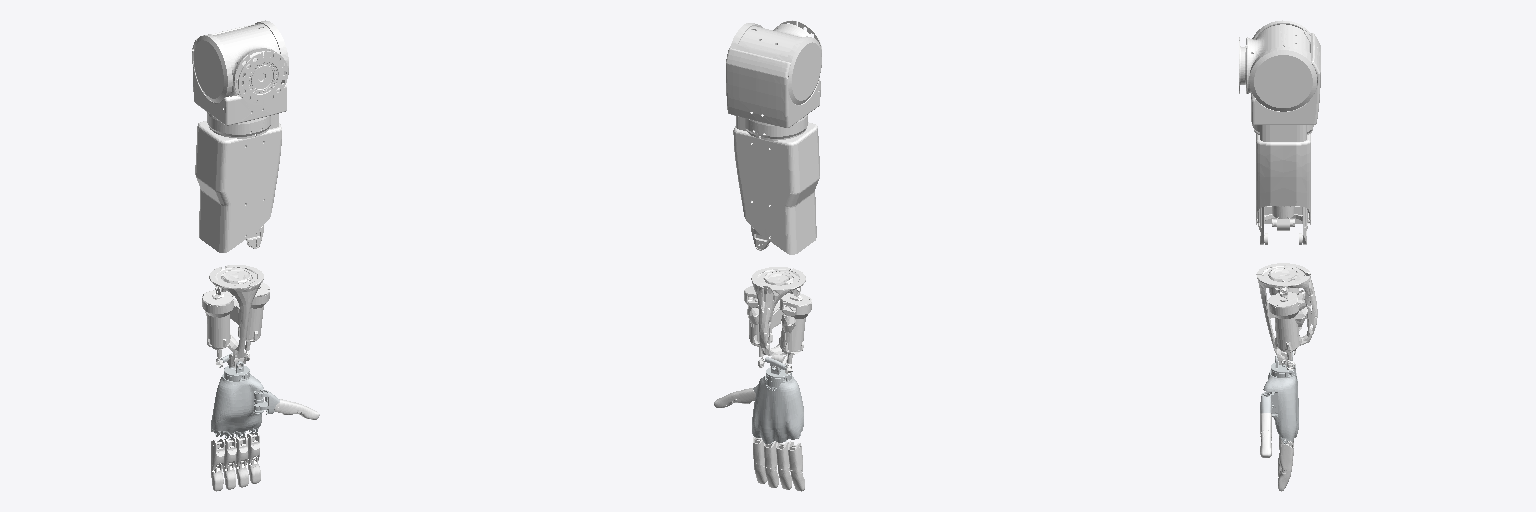
URDF robot description (left_arm):
<?xml version="1.0" encoding="utf-8"?>
<robot name="left_arm">
  
  <link name="base_link"/>

  <link
    name="left_shoulder_pitch">
    <inertial>
      <origin
        xyz="-0.000967 0.002123 -0.065723"
        rpy="0 0 0" />
      <mass
        value="1.629" />
      <inertia
        ixx="0.002400607"
        ixy="4.53300000E-06"
        ixz="1.86160000E-05"
        iyy="0.002402184"
        iyz="-5.55000000E-07"
        izz="0.001715245" />
    </inertial>
    <visual>
      <origin
        xyz="0 0 0"
        rpy="0 0 0" />
      <geometry>
        <mesh
          filename="./meshes/left_shoulder_pitch.STL" />
      </geometry>
      <material
        name="">
        <color
          rgba="1 1 1 1" />
      </material>
    </visual>
    <collision>
      <origin
        xyz="0 0 0"
        rpy="0 0 0" />
      <geometry>
        <mesh
          filename="./meshes/left_shoulder_pitch.STL" />
      </geometry>
    </collision>
  </link>
  
  <joint
    name="left_shoulder_pitch"
    type="revolute">
    <origin
      xyz="-0.0199999999999999 0.13949999999999 0.404"
      rpy="1.5707963267949 0 0" />
    <parent
      link="base_link" />
    <child
      link="left_shoulder_pitch" />
    <axis
      xyz="0 0 1" />
    <limit
      lower="-1.58"
      upper="3.16"
      effort="130"
      velocity="2.62" />
  </joint>

  <link
    name="left_shoulder_roll">
    <inertial>
      <origin
        xyz="0.026227 0.00152 -0.001953"
        rpy="0 0 0" />
      <mass
        value="1.587" />
      <inertia
        ixx="0.002776846"
        ixy="-1.03429000E-04"
        ixz="8.41720000E-05"
        iyy="0.004808973"
        iyz="9.46000000E-07"
        izz="0.004198699" />
    </inertial>
    <visual>
      <origin
        xyz="0 0 0"
        rpy="0 0 0" />
      <geometry>
        <mesh
          filename="./meshes/left_shoulder_roll.STL" />
      </geometry>
      <material
        name="">
        <color
          rgba="1 1 1 1" />
      </material>
    </visual>
    <collision>
      <origin
        xyz="0 0 0"
        rpy="0 0 0" />
      <geometry>
        <mesh
          filename="./meshes/left_shoulder_roll.STL" />
      </geometry>
    </collision>
  </link>
  <joint
    name="left_shoulder_roll"
    type="revolute">
    <origin
      xyz="0 0 -0.077"
      rpy="-1.5707963267949 0 -1.5707963267949" />
    <parent
      link="left_shoulder_pitch" />
    <child
      link="left_shoulder_roll" />
    <axis
      xyz="0 0 1" />
    <limit
      lower="0"
      upper="1.58"
      effort="130"
      velocity="2.62" />
  </joint>
  <link
    name="left_shoulder_yaw">
    <inertial>
      <origin
        xyz="0.000001 0.006031 -0.087644"
        rpy="0 0 0" />
      <mass
        value="1.25" />
      <inertia
        ixx="0.004255287"
        ixy="-9.80000000E-08"
        ixz="-1.25000000E-07"
        iyy="0.004278856"
        iyz="-2.28902000E-04"
        izz="0.001603734" />
    </inertial>
    <visual>
      <origin
        xyz="0 0 0"
        rpy="0 0 0" />
      <geometry>
        <mesh
          filename="./meshes/left_shoulder_yaw.STL" />
      </geometry>
      <material
        name="">
        <color
          rgba="1 1 1 1" />
      </material>
    </visual>
    <collision>
      <origin
        xyz="0 0 0"
        rpy="0 0 0" />
      <geometry>
        <mesh
          filename="./meshes/left_shoulder_yaw.STL" />
      </geometry>
    </collision>
  </link>
  <joint
    name="left_shoulder_yaw"
    type="revolute">
    <origin
      xyz="0.118500000000157 0 0"
      rpy="-1.5707963267949 0 1.5707963267949" />
    <parent
      link="left_shoulder_roll" />
    <child
      link="left_shoulder_yaw" />
    <axis
      xyz="0 0 1" />
    <limit
      lower="-1.58"
      upper="1.58"
      effort="163"
      velocity="2.1" />
  </joint>
  <link
    name="left_elbow_pitch">
    <inertial>
      <origin
        xyz="0.01558 0.036436 -0.000005"
        rpy="0 0 0" />
      <mass
        value="1.064" />
      <inertia
        ixx="0.00124594"
        ixy="3.27260000E-05"
        ixz="-1.20000000E-07"
        iyy="8.74858000E-04"
        iyz="1.90000000E-08"
        izz="0.001140589" />
    </inertial>
    <visual>
      <origin
        xyz="0 0 0"
        rpy="0 0 0" />
      <geometry>
        <mesh
          filename="./meshes/left_elbow_pitch.STL" />
      </geometry>
      <material
        name="">
        <color
          rgba="1 1 1 1" />
      </material>
    </visual>
    <collision>
      <origin
        xyz="0 0 0"
        rpy="0 0 0" />
      <geometry>
        <mesh
          filename="./meshes/left_elbow_pitch.STL" />
      </geometry>
    </collision>
  </link>
  <joint
    name="left_elbow_pitch"
    type="revolute">
    <origin
      xyz="0 -0.00700000000000012 -0.210500002920037"
      rpy="-1.5707963267949 0 1.5707963267949" />
    <parent
      link="left_shoulder_yaw" />
    <child
      link="left_elbow_pitch" />
    <axis
      xyz="0 0 1" />
    <limit
      lower="0"
      upper="2.27"
      effort="60"
      velocity="6.67" />
  </joint>
  <link
    name="left_elbow_yaw">
    <inertial>
      <origin
        xyz="-0.00052 0.005407 -0.062913"
        rpy="0 0 0" />
      <mass
        value="0.969" />
      <inertia
        ixx="0.001612781"
        ixy="3.54500000E-06"
        ixz="1.06500000E-05"
        iyy="0.002250204"
        iyz="-9.20040000E-05"
        izz="0.001315879" />
    </inertial>
    <visual>
      <origin
        xyz="0 0 0"
        rpy="0 0 0" />
      <geometry>
        <mesh
          filename="./meshes/left_elbow_yaw.STL" />
      </geometry>
      <material
        name="">
        <color
          rgba="1 1 1 1" />
      </material>
    </visual>
    <collision>
      <origin
        xyz="0 0 0"
        rpy="0 0 0" />
      <geometry>
        <mesh
          filename="./meshes/left_elbow_yaw.STL" />
      </geometry>
    </collision>
  </link>
  <joint
    name="left_elbow_yaw"
    type="revolute">
    <origin
      xyz="0.0150000000000032 0.0779000084169724 0"
      rpy="-1.57079641267836 0 3.14159265358979" />
    <parent
      link="left_elbow_pitch" />
    <child
      link="left_elbow_yaw" />
    <axis
      xyz="0 0 1" />
    <limit
      lower="-2.1"
      upper="2.1"
      effort="31"
      velocity="2.62" />
  </joint>
  <link
    name="left_wrist_pitch">
    <inertial>
      <origin
        xyz="0.000 -0.004355 0.000"
        rpy="0 0 0" />
      <mass
        value="0.023" />
      <inertia
        ixx="1.819E-06"
        ixy="0.000"
        ixz="0.000"
        iyy="1.224E-06"
        iyz="0.000"
        izz="1.598E-06" />
    </inertial>
    <visual>
      <origin
        xyz="0 0 0"
        rpy="0 0 0" />
      <geometry>
        <mesh
          filename="./meshes/left_wrist_pitch.STL" />
      </geometry>
      <material
        name="">
        <color
          rgba="1 1 1 1" />
      </material>
    </visual>
    <collision>
      <origin
        xyz="0 0 0"
        rpy="0 0 0" />
      <geometry>
        <mesh
          filename="./meshes/left_wrist_pitch.STL" />
      </geometry>
    </collision>
  </link>
  <joint
    name="left_wrist_pitch"
    type="revolute">
    <origin
      xyz="0 0 -0.158"
      rpy="1.5707963267949 0 1.5707963267949" />
    <parent
      link="left_elbow_yaw" />
    <child
      link="left_wrist_pitch" />
    <axis
      xyz="0 0 1" />
    <limit
      lower="-0.7"
      upper="0.35"
      effort="15"
      velocity="3.96" />
  </joint>
  <link
    name="left_wrist_yaw">
    <inertial>
      <origin
        xyz="-0.070305 -0.002637 0.003387"
        rpy="0 0 0" />
      <mass
        value="0.883" />
      <inertia
        ixx="5.75564E-04"
        ixy="3.2923E-05"
        ixz="6.5112E-05"
        iyy="0.001385921"
        iyz="-8.702E-06"
        izz="0.001654264" />
    </inertial>
    <visual>
      <origin
        xyz="0 0 0"
        rpy="0 0 0" />
      <geometry>
        <mesh
          filename="./meshes/left_wrist_yaw.STL" />
      </geometry>
      <material
        name="">
        <color
          rgba="0.89804 0.91765 0.92941 1" />
      </material>
    </visual>
    <collision>
      <origin
        xyz="0 0 0"
        rpy="0 0 0" />
      <geometry>
        <mesh
          filename="./meshes/left_wrist_yaw.STL" />
      </geometry>
    </collision>
  </link>
  <joint
    name="left_wrist_yaw"
    type="revolute">
    <origin
      xyz="0 -0.01 0"
      rpy="-1.5707963267949 0 1.5707963267949" />
    <parent
      link="left_wrist_pitch" />
    <child
      link="left_wrist_yaw" />
    <axis
      xyz="0 0 1" />
    <limit
      lower="-1.31"
      upper="0.96"
      effort="15"
      velocity="10.21" />
  </joint>
  <link
    name="left_thumb_1_roll">
    <inertial>
      <origin
        xyz="-0.000537 0.011649 0.007843"
        rpy="0 0 0" />
      <mass
        value="0.025" />
      <inertia
        ixx="4.776E-06"
        ixy="-5.100E-08"
        ixz="2.900E-08"
        iyy="3.749E-06"
        iyz="4.72E-07"
        izz="2.802E-06" />
    </inertial>
    <visual>
      <origin
        xyz="0 0 0"
        rpy="0 0 0" />
      <geometry>
        <mesh
          filename="./meshes/left_thumb_1_roll.STL" />
      </geometry>
      <material
        name="">
        <color
          rgba="0.89804 0.91765 0.92941 1" />
      </material>
    </visual>
    <collision>
      <origin
        xyz="0 0 0"
        rpy="0 0 0" />
      <geometry>
        <mesh
          filename="./meshes/left_thumb_1_roll.STL" />
      </geometry>
    </collision>
  </link>
  <joint
    name="left_thumb_1_roll"
    type="revolute">
    <origin
      xyz="-0.065711011608865 -0.0355434265047999 0.0304721667720281"
      rpy="3.14159265358979 1.5707963267949 0" />
    <parent
      link="left_wrist_yaw" />
    <child
      link="left_thumb_1_roll" />
    <axis
      xyz="0 0 1" />
    <limit
      lower="0"
      upper="1.75"
      effort="0.5"
      velocity="1.5" />
  </joint>
  <link
    name="left_thumb_2_pitch">
    <inertial>
      <origin
        xyz="-0.01953 -0.006657 0"
        rpy="0 0 0" />
      <mass
        value="0.031" />
      <inertia
        ixx="3.07100000E-06"
        ixy="1.51700000E-06"
        ixz="0.000"
        iyy="6.09800000E-06"
        iyz="0.000"
        izz="6.60000000E-06" />
    </inertial>
    <visual>
      <origin
        xyz="0 0 0"
        rpy="0 0 0" />
      <geometry>
        <mesh
          filename="./meshes/left_thumb_2_pitch.STL" />
      </geometry>
      <material
        name="">
        <color
          rgba="1 1 1 1" />
      </material>
    </visual>
    <collision>
      <origin
        xyz="0 0 0"
        rpy="0 0 0" />
      <geometry>
        <mesh
          filename="./meshes/left_thumb_2_pitch.STL" />
      </geometry>
    </collision>
  </link>
  <joint
    name="left_thumb_2_pitch"
    type="revolute">
    <origin
      xyz="0 0.0240000000043515 0.0191499999674365"
      rpy="-1.5707963267949 0 -1.5707963267949" />
    <parent
      link="left_thumb_1_roll" />
    <child
      link="left_thumb_2_pitch" />
    <axis
      xyz="0 0 1" />
    <limit
      lower="0"
      upper="1.58"
      effort="0.5"
      velocity="1.5" />
  </joint>
  <link
    name="left_thumb_3_pitch">
    <inertial>
      <origin
        xyz="-0.022652 -0.010625 0.000"
        rpy="0 0 0" />
      <mass
        value="0.0226" />
      <inertia
        ixx="2.02300000E-06"
        ixy="1.58500000E-06"
        ixz="0.000"
        iyy="3.68200000E-06"
        iyz="0.000"
        izz="4.55500000E-06" />
    </inertial>
    <visual>
      <origin
        xyz="0 0 0"
        rpy="0 0 0" />
      <geometry>
        <mesh
          filename="./meshes/left_thumb_3_pitch.STL" />
      </geometry>
      <material
        name="">
        <color
          rgba="1 1 1 1" />
      </material>
    </visual>
    <collision>
      <origin
        xyz="0 0 0"
        rpy="0 0 0" />
      <geometry>
        <mesh
          filename="./meshes/left_thumb_3_pitch.STL" />
      </geometry>
    </collision>
  </link>
  <joint
    name="left_thumb_3_pitch"
    type="revolute">
    <origin
      xyz="-0.0394670900730081 -0.0143648460196782 0"
      rpy="0 0 0" />
    <parent
      link="left_thumb_2_pitch" />
    <child
      link="left_thumb_3_pitch" />
    <axis
      xyz="0 0 1" />
    <limit
      lower="0"
      upper="1.58"
      effort="0.5"
      velocity="1.5" />
  </joint>
  <link
    name="left_index_finger_2_pitch">
    <inertial>
      <origin
        xyz="0.000424 -0.020629 0"
        rpy="0 0 0" />
      <mass
        value="0.0308" />
      <inertia
        ixx="6.719E-06"
        ixy="1.89E-07"
        ixz="0.000"
        iyy="2.45E-06"
        iyz="0.000"
        izz="6.6E-06" />
    </inertial>
    <visual>
      <origin
        xyz="0 0 0"
        rpy="0 0 0" />
      <geometry>
        <mesh
          filename="./meshes/left_index_finger_2_pitch.STL" />
      </geometry>
      <material
        name="">
        <color
          rgba="1 1 1 1" />
      </material>
    </visual>
    <collision>
      <origin
        xyz="0 0 0"
        rpy="0 0 0" />
      <geometry>
        <mesh
          filename="./meshes/left_index_finger_2_pitch.STL" />
      </geometry>
    </collision>
  </link>
  <joint
    name="left_index_finger_2_pitch"
    type="revolute">
    <origin
      xyz="-0.149999999987412 -0.0355434264207067 -0.00354780308283045"
      rpy="-3.13755534197538 1.57079580738735 1.57483363840931" />
    <parent
      link="left_wrist_yaw" />
    <child
      link="left_index_finger_2_pitch" />
    <axis
      xyz="0 0 -1" />
    <limit
      lower="0"
      upper="1.58"
      effort="0.5"
      velocity="1.5" />
  </joint>
  <link
    name="left_index_finger_3_pitch">
    <inertial>
      <origin
        xyz="-0.002405 -0.021599 0"
        rpy="0 0 0" />
      <mass
        value="0.0189" />
      <inertia
        ixx="2.967E-06"
        ixy="6.44E-07"
        ixz="0.000"
        iyy="1.024E-06"
        iyz="0.000"
        izz="3.127E-06" />
    </inertial>
    <visual>
      <origin
        xyz="0 0 0"
        rpy="0 0 0" />
      <geometry>
        <mesh
          filename="./meshes/left_index_finger_3_pitch.STL" />
      </geometry>
      <material
        name="">
        <color
          rgba="1 1 1 1" />
      </material>
    </visual>
    <collision>
      <origin
        xyz="0 0 0"
        rpy="0 0 0" />
      <geometry>
        <mesh
          filename="./meshes/left_index_finger_3_pitch.STL" />
      </geometry>
    </collision>
  </link>
  <joint
    name="left_index_finger_3_pitch"
    type="revolute">
    <origin
      xyz="0 -0.0419999999936377 0"
      rpy="0 0 0" />
    <parent
      link="left_index_finger_2_pitch" />
    <child
      link="left_index_finger_3_pitch" />
    <axis
      xyz="0 0 -1" />
    <limit
      lower="0"
      upper="1.58"
      effort="0.5"
      velocity="1.5" />
  </joint>
  <link
    name="left_middle_finger_2_pitch">
    <inertial>
      <origin
        xyz="0.000424 -0.020629 0"
        rpy="0 0 0" />
      <mass
        value="0.0308" />
      <inertia
        ixx="6.71900000E-06"
        ixy="1.89000000E-07"
        ixz="0.000"
        iyy="2.45000000E-06"
        iyz="0.000"
        izz="6.60000000E-06" />
    </inertial>
    <visual>
      <origin
        xyz="0 0 0"
        rpy="0 0 0" />
      <geometry>
        <mesh
          filename="./meshes/left_middle_finger_2_pitch.STL" />
      </geometry>
      <material
        name="">
        <color
          rgba="1 1 1 1" />
      </material>
    </visual>
    <collision>
      <origin
        xyz="0 0 0"
        rpy="0 0 0" />
      <geometry>
        <mesh
          filename="./meshes/left_middle_finger_2_pitch.STL" />
      </geometry>
    </collision>
  </link>
  <joint
    name="left_middle_finger_2_pitch"
    type="revolute">
    <origin
      xyz="-0.152 -0.012043425641428 -0.00504725373861389"
      rpy="-3.14159265264672 1.57079580738735 1.57079632773797" />
    <parent
      link="left_wrist_yaw" />
    <child
      link="left_middle_finger_2_pitch" />
    <axis
      xyz="0 0 -1" />
    <limit
      lower="0"
      upper="1.58"
      effort="0.5"
      velocity="1.5" />
  </joint>
  <link
    name="left_middle_finger_3_pitch">
    <inertial>
      <origin
        xyz="-0.002405 -0.021599 0"
        rpy="0 0 0" />
      <mass
        value="0.0189" />
      <inertia
        ixx="2.96700000E-06"
        ixy="6.44000000E-07"
        ixz="0.000"
        iyy="1.02400000E-06"
        iyz="0.000"
        izz="3.12700000E-06" />
    </inertial>
    <visual>
      <origin
        xyz="0 0 0"
        rpy="0 0 0" />
      <geometry>
        <mesh
          filename="./meshes/left_middle_finger_3_pitch.STL" />
      </geometry>
      <material
        name="">
        <color
          rgba="1 1 1 1" />
      </material>
    </visual>
    <collision>
      <origin
        xyz="0 0 0"
        rpy="0 0 0" />
      <geometry>
        <mesh
          filename="./meshes/left_middle_finger_3_pitch.STL" />
      </geometry>
    </collision>
  </link>
  <joint
    name="left_middle_finger_3_pitch"
    type="revolute">
    <origin
      xyz="0 -0.042 0"
      rpy="0 0 0" />
    <parent
      link="left_middle_finger_2_pitch" />
    <child
      link="left_middle_finger_3_pitch" />
    <axis
      xyz="0 0 -1" />
    <limit
      lower="0"
      upper="1.58"
      effort="0.5"
      velocity="1.5" />
  </joint>
  <link
    name="left_ring_finger_2_pitch">
    <inertial>
      <origin
        xyz="0.000424 -0.020629 0"
        rpy="0 0 0" />
      <mass
        value="0.0308" />
      <inertia
        ixx="6.71900000E-06"
        ixy="1.89000000E-07"
        ixz="0.000"
        iyy="2.45000000E-06"
        iyz="0.000"
        izz="6.60000000E-06" />
    </inertial>
    <visual>
      <origin
        xyz="0 0 0"
        rpy="0 0 0" />
      <geometry>
        <mesh
          filename="./meshes/left_ring_finger_2_pitch.STL" />
      </geometry>
      <material
        name="">
        <color
          rgba="1 1 1 1" />
      </material>
    </visual>
    <collision>
      <origin
        xyz="0 0 0"
        rpy="0 0 0" />
      <geometry>
        <mesh
          filename="./meshes/left_ring_finger_2_pitch.STL" />
      </geometry>
    </collision>
  </link>
  <joint
    name="left_ring_finger_2_pitch"
    type="revolute">
    <origin
      xyz="-0.149634612145833 0.0112889946629825 -0.00354621663087695"
      rpy="-3.03018290397524 1.57071101857885 1.64729959342517" />
    <parent
      link="left_wrist_yaw" />
    <child
      link="left_ring_finger_2_pitch" />
    <axis
      xyz="0 0 -1" />
    <limit
      lower="0"
      upper="1.58"
      effort="0.5"
      velocity="1.5" />
  </joint>
  <link
    name="left_ring_finger_3_pitch">
    <inertial>
      <origin
        xyz="-0.002405 -0.021599 0"
        rpy="0 0 0" />
      <mass
        value="0.0189" />
      <inertia
        ixx="2.96700000E-06"
        ixy="6.44000000E-07"
        ixz="0.000"
        iyy="1.02400000E-06"
        iyz="0.000"
        izz="3.12700000E-06" />
    </inertial>
    <visual>
      <origin
        xyz="0 0 0"
        rpy="0 0 0" />
      <geometry>
        <mesh
          filename="./meshes/left_ring_finger_3_pitch.STL" />
      </geometry>
      <material
        name="">
        <color
          rgba="1 1 1 1" />
      </material>
    </visual>
    <collision>
      <origin
        xyz="0 0 0"
        rpy="0 0 0" />
      <geometry>
        <mesh
          filename="./meshes/left_ring_finger_3_pitch.STL" />
      </geometry>
    </collision>
  </link>
  <joint
    name="left_ring_finger_3_pitch"
    type="revolute">
    <origin
      xyz="0 -0.0420000000000142 0"
      rpy="0 0 0" />
    <parent
      link="left_ring_finger_2_pitch" />
    <child
      link="left_ring_finger_3_pitch" />
    <axis
      xyz="0 0 -1" />
    <limit
      lower="0"
      upper="1.58"
      effort="0.5"
      velocity="1.5" />
  </joint>
  <link
    name="left_little_finger_2_pitch">
    <inertial>
      <origin
        xyz="0.000424 -0.020629 0"
        rpy="0 0 0" />
      <mass
        value="0.0308" />
      <inertia
        ixx="6.71900000E-06"
        ixy="1.89000000E-07"
        ixz="0.000"
        iyy="2.45000000E-06"
        iyz="0.000"
        izz="6.60000000E-06" />
    </inertial>
    <visual>
      <origin
        xyz="0 0 0"
        rpy="0 0 0" />
      <geometry>
        <mesh
          filename="./meshes/left_little_finger_2_pitch.STL" />
      </geometry>
      <material
        name="">
        <color
          rgba="1 1 1 1" />
      </material>
    </visual>
    <collision>
      <origin
        xyz="0 0 0"
        rpy="0 0 0" />
      <geometry>
        <mesh
          filename="./meshes/left_little_finger_2_pitch.STL" />
      </geometry>
    </collision>
  </link>
  <joint
    name="left_little_finger_2_pitch"
    type="revolute">
    <origin
      xyz="-0.146952858031617 0.0346341052013608 -0.00329321698308266"
      rpy="3.1415926535425 1.57079580717365 1.50098315666782" />
    <parent
      link="left_wrist_yaw" />
    <child
      link="left_little_finger_2_pitch" />
    <axis
      xyz="0 0 -1" />
    <limit
      lower="0"
      upper="1.58"
      effort="0.5"
      velocity="1.5" />
  </joint>
  <link
    name="left_little_finger_3_pitch">
    <inertial>
      <origin
        xyz="-0.002405 -0.021599 0"
        rpy="0 0 0" />
      <mass
        value="0.0189" />
      <inertia
        ixx="2.96700000E-06"
        ixy="6.44000000E-07"
        ixz="0.000"
        iyy="1.02400000E-06"
        iyz="0.000"
        izz="3.12700000E-06" />
    </inertial>
    <visual>
      <origin
        xyz="0 0 0"
        rpy="0 0 0" />
      <geometry>
        <mesh
          filename="./meshes/left_little_finger_3_pitch.STL" />
      </geometry>
      <material
        name="">
        <color
          rgba="1 1 1 1" />
      </material>
    </visual>
    <collision>
      <origin
        xyz="0 0 0"
        rpy="0 0 0" />
      <geometry>
        <mesh
          filename="./meshes/left_little_finger_3_pitch.STL" />
      </geometry>
    </collision>
  </link>
  <joint
    name="left_little_finger_3_pitch"
    type="revolute">
    <origin
      xyz="0 -0.042 0"
      rpy="0 0 0" />
    <parent
      link="left_little_finger_2_pitch" />
    <child
      link="left_little_finger_3_pitch" />
    <axis
      xyz="0 0 -1" />
    <limit
      lower="0"
      upper="1.58"
      effort="0.5"
      velocity="1.5" />
  </joint>
</robot>

--- Render facts (derived) ---
The picture shows the robot from 3 angles, left to right: view 1: azimuth 30°, elevation 25°; view 2: azimuth 150°, elevation 25°; view 3: azimuth 270°, elevation 25°; orthographic projection.
Robot: left_arm — 19 links, 18 joints (18 revolute); root link base_link; default pose: all joints at 0.
Visible links, largest first — view 1: left_shoulder_yaw, left_shoulder_roll, left_elbow_yaw, left_shoulder_pitch, left_wrist_yaw; view 2: left_shoulder_yaw, left_shoulder_roll, left_elbow_yaw, left_wrist_yaw, left_shoulder_pitch; view 3: left_shoulder_roll, left_shoulder_yaw, left_elbow_yaw, left_wrist_yaw, left_shoulder_pitch.
Link boxes in pixels (x1=…): left_shoulder_yaw: x1=195, y1=121, x2=281, y2=252; left_shoulder_roll: x1=192, y1=20, x2=288, y2=138; left_elbow_yaw: x1=202, y1=265, x2=269, y2=367; left_shoulder_pitch: x1=213, y1=24, x2=287, y2=104; left_wrist_yaw: x1=211, y1=353, x2=263, y2=438; left_shoulder_yaw: x1=733, y1=122, x2=819, y2=254; left_shoulder_roll: x1=726, y1=23, x2=821, y2=140; left_elbow_yaw: x1=744, y1=267, x2=811, y2=373; left_wrist_yaw: x1=752, y1=357, x2=803, y2=443; left_shoulder_pitch: x1=741, y1=20, x2=821, y2=57; left_shoulder_roll: x1=1249, y1=20, x2=1320, y2=141; left_shoulder_yaw: x1=1256, y1=134, x2=1310, y2=244; left_elbow_yaw: x1=1256, y1=263, x2=1317, y2=369; left_wrist_yaw: x1=1263, y1=352, x2=1298, y2=443; left_shoulder_pitch: x1=1239, y1=24, x2=1309, y2=93.
Size in the robot's own frame: 0.2101 by 0.1461 by 0.874 metres.
Meshes: 18 distinct files referenced, 17 mesh visuals loaded (17 binary STL); not drawn: 1 (reference not matched to a file when rendering).
